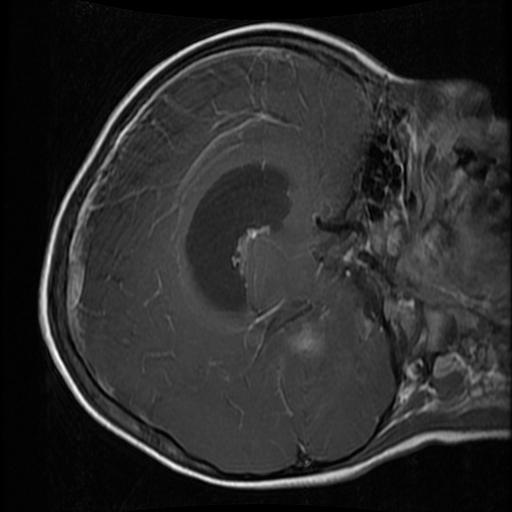glioma: (182, 165, 290, 314)
